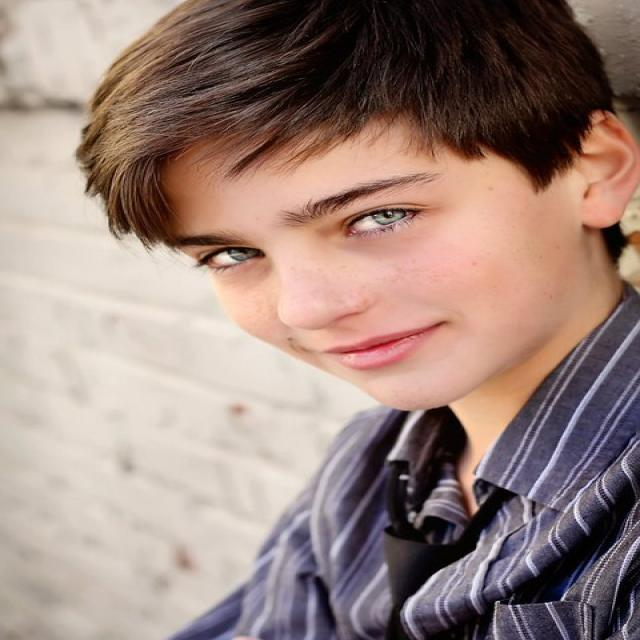earlobe: (583, 192, 623, 230)
eye: (346, 207, 417, 235), (206, 246, 264, 270)
nose: (298, 309, 385, 352)
wholeear: (571, 108, 640, 230)
